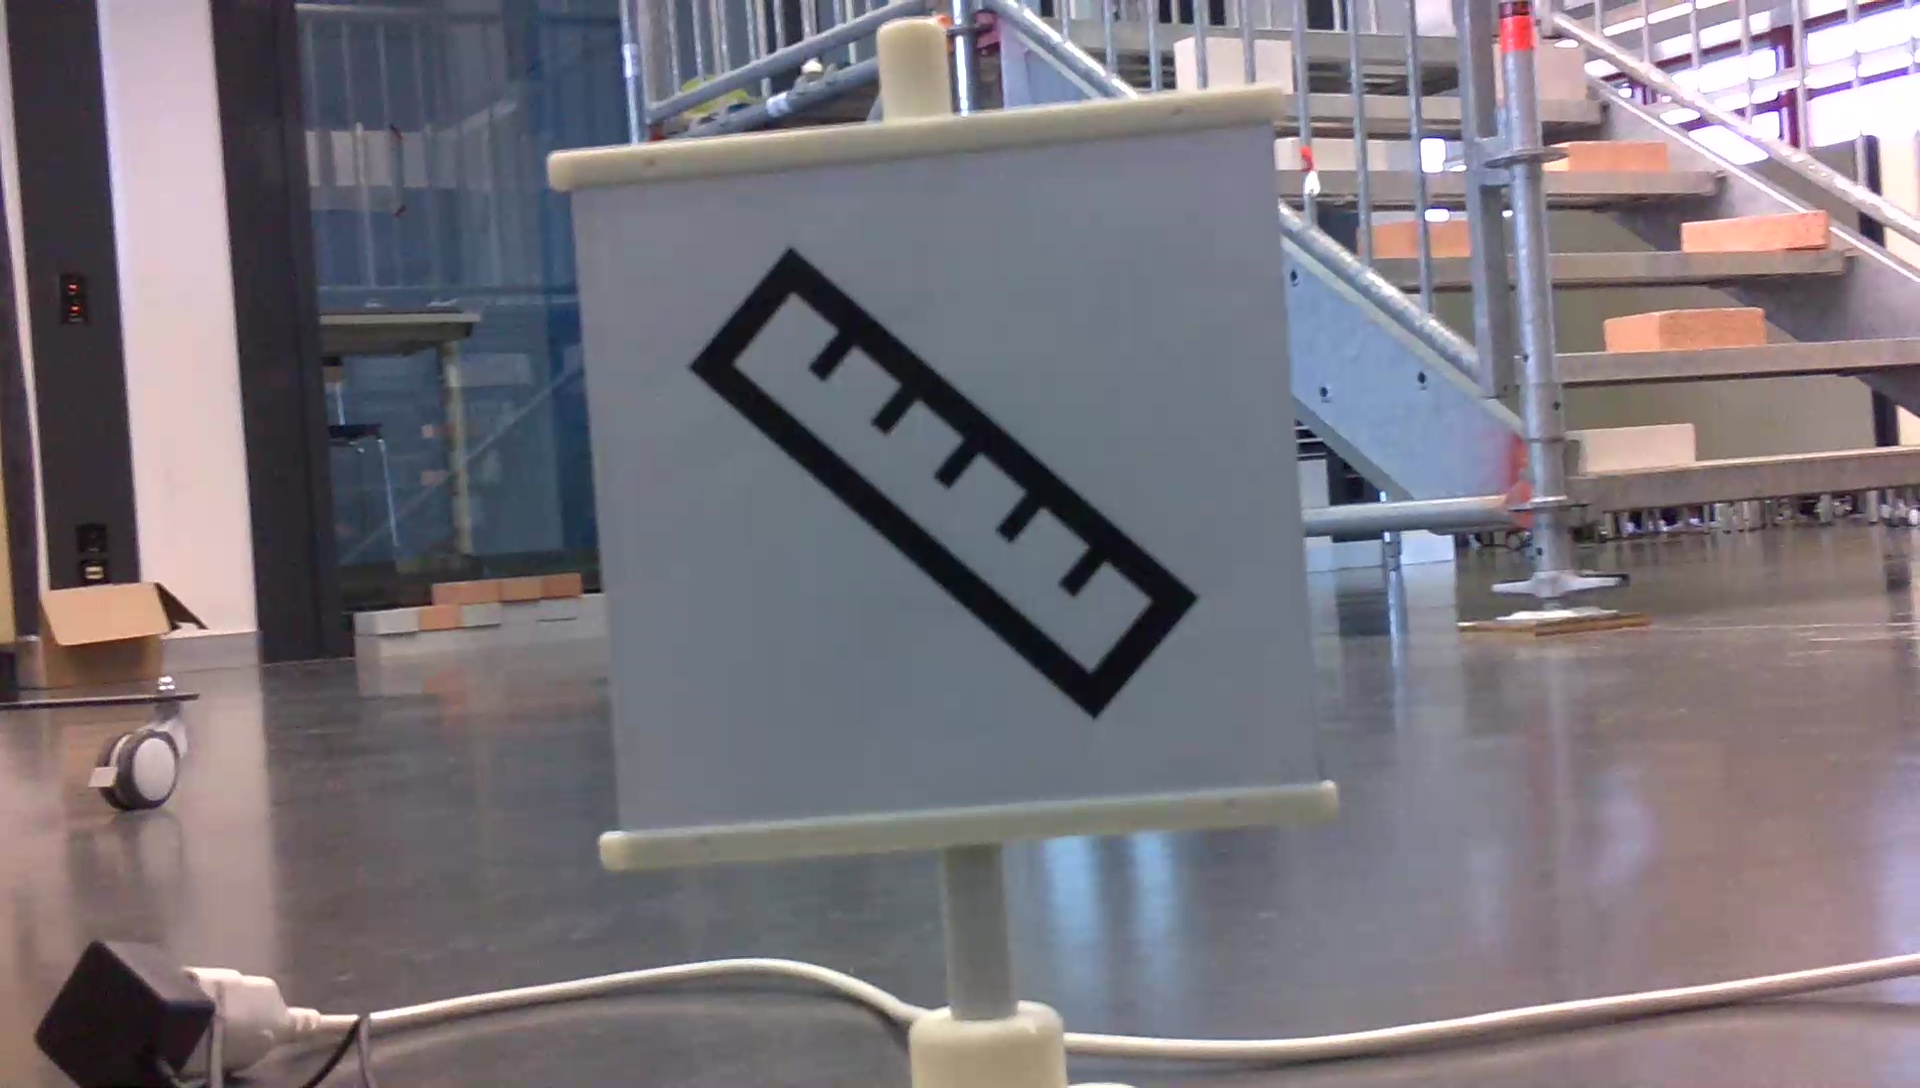brick: (1545, 417, 1712, 473), (1669, 208, 1832, 257), (1598, 318, 1775, 359), (1553, 136, 1663, 167)
edge: (1549, 326, 1920, 390), (1588, 456, 1920, 528), (1530, 240, 1859, 276)
ruler: (690, 251, 1184, 721)
